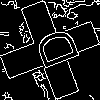D: (25, 25, 80, 75)
